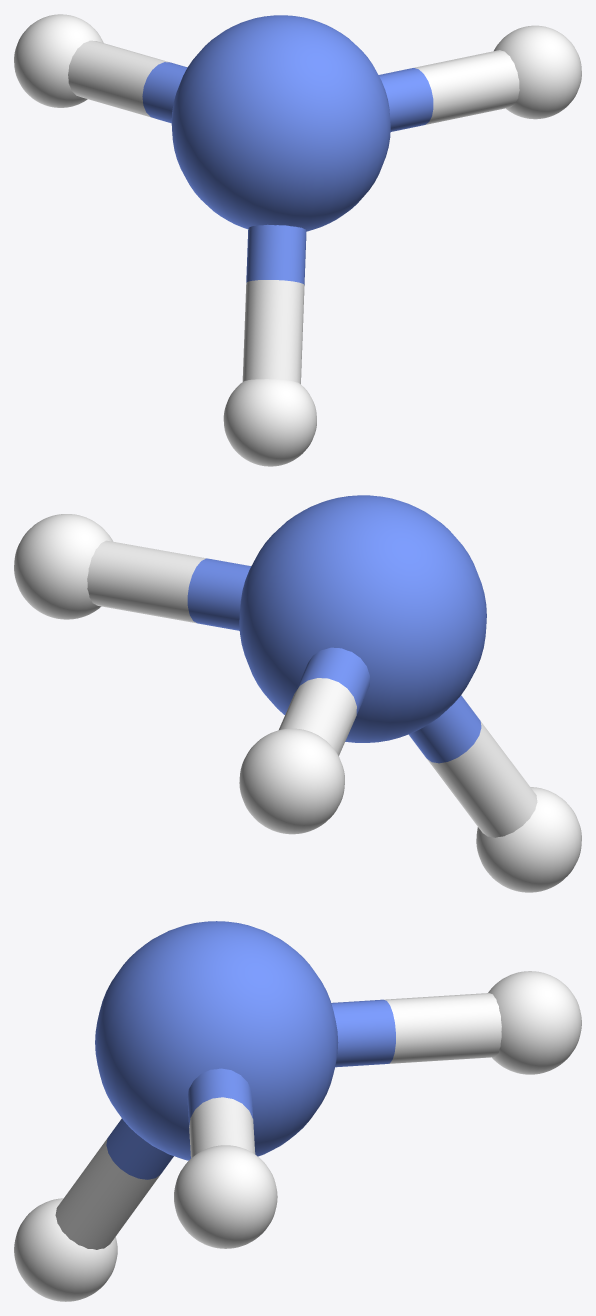
The model's file is ammonia.fbx.
3 views of the same model, one above another, from view 1: azimuth 30°, elevation 25°; view 2: azimuth 150°, elevation 25°; view 3: azimuth 270°, elevation 25° (orthographic). The views are drawn at different scales.
Visible parts, largest first — view 1: Nitrogen, N-H2 bond, N-H3 bond, H2, N-H1 bond, H3, H1; view 2: Nitrogen, N-H3 bond, N-H2 bond, H1, H3, H2, N-H1 bond; view 3: Nitrogen, N-H1 bond, H3, N-H2 bond, H1, H2, N-H3 bond.
Part boxes in pixels (x1,y1,x2,y2): Nitrogen: (171, 15, 390, 231); N-H2 bond: (242, 224, 306, 383); N-H3 bond: (378, 50, 519, 131); H2: (223, 379, 316, 466); N-H1 bond: (68, 40, 187, 123); H3: (494, 25, 581, 119); H1: (14, 14, 103, 107); Nitrogen: (239, 495, 486, 742); N-H3 bond: (87, 540, 250, 630); N-H2 bond: (408, 695, 537, 837); H1: (239, 728, 344, 834); H3: (14, 514, 112, 619); H2: (476, 787, 581, 892); N-H1 bond: (279, 647, 369, 755); Nitrogen: (95, 921, 338, 1160); N-H1 bond: (331, 993, 501, 1067); H3: (174, 1145, 277, 1248); N-H2 bond: (55, 1118, 173, 1249); H1: (488, 971, 581, 1074); H2: (14, 1198, 117, 1301); N-H3 bond: (187, 1068, 255, 1158).
Bounding box in the file's own units: 165 × 139 × 175.
